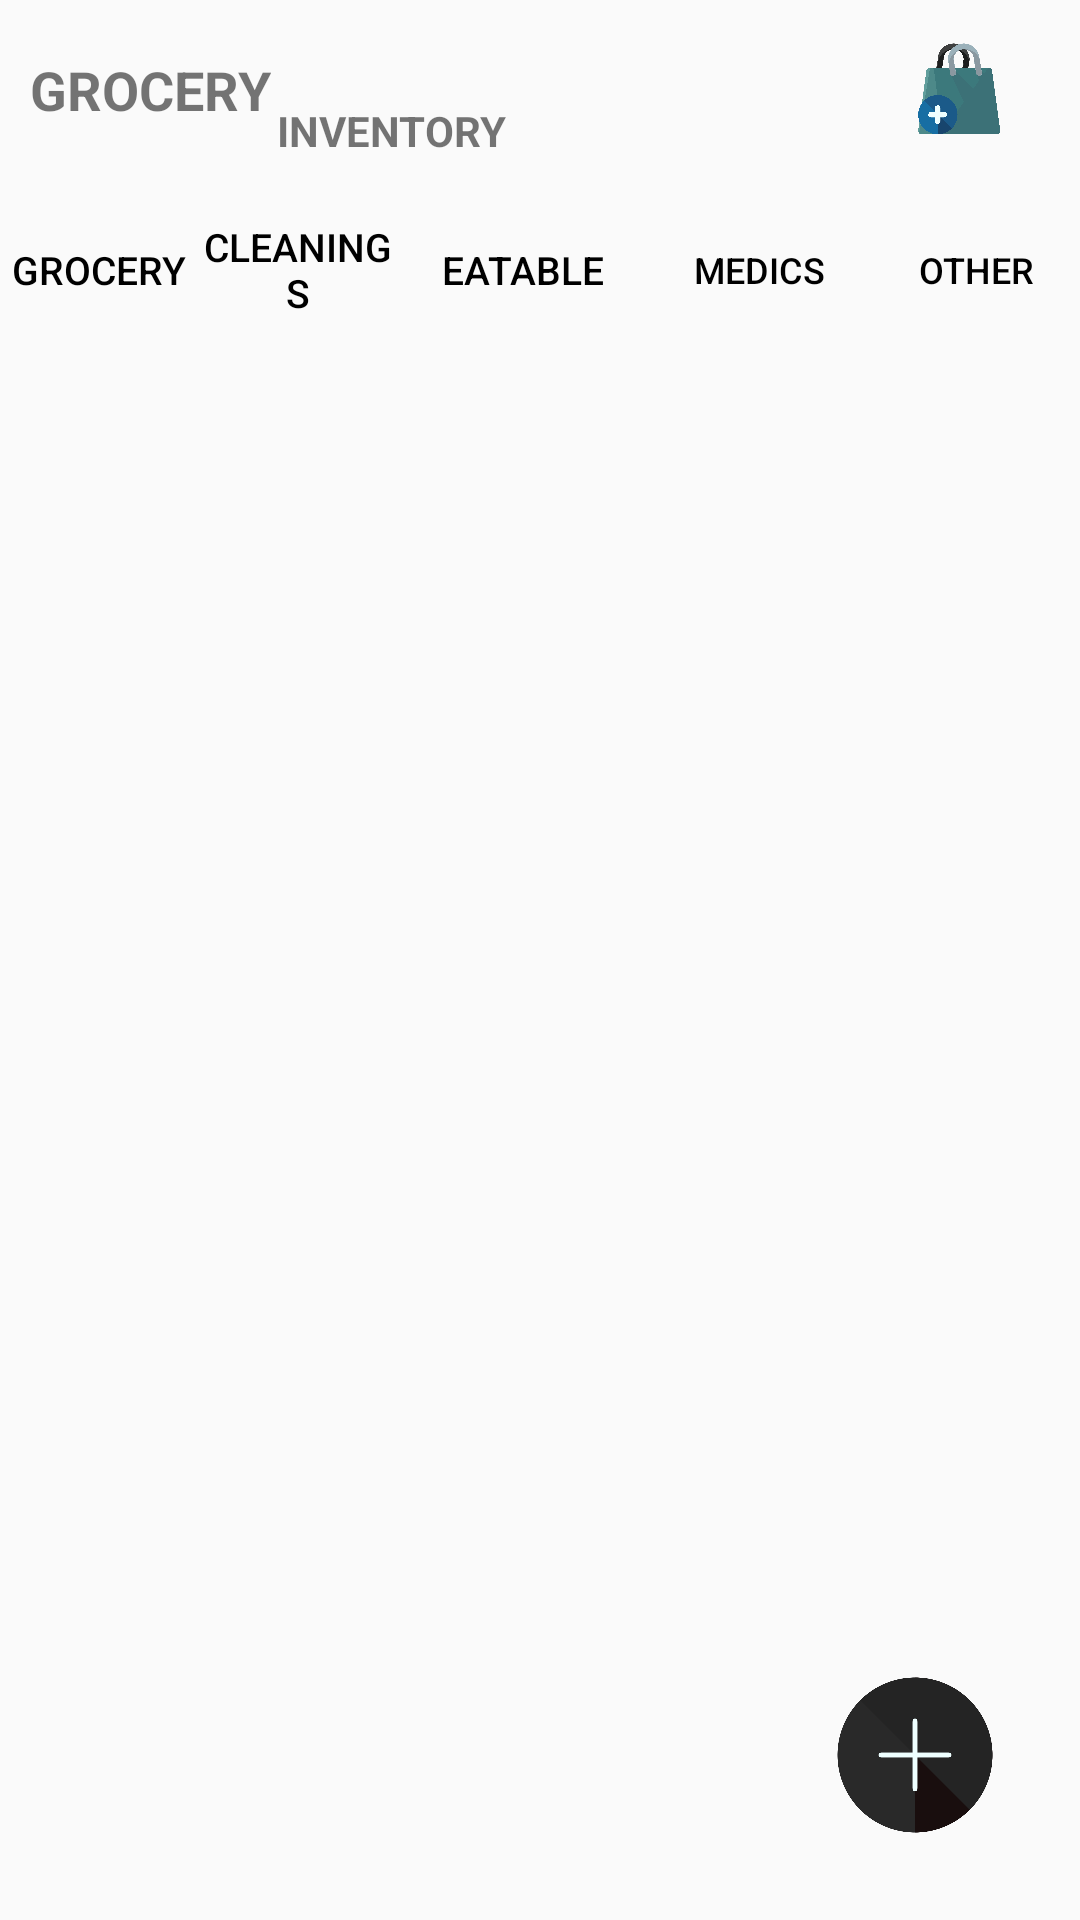

Locate icon controls on the screen. Image size 1080*1920, boxes as bbox=(x1, y1, x2, y2).
add grocery: bbox=(918, 43, 1000, 134)
additem: bbox=(837, 1677, 993, 1833)
